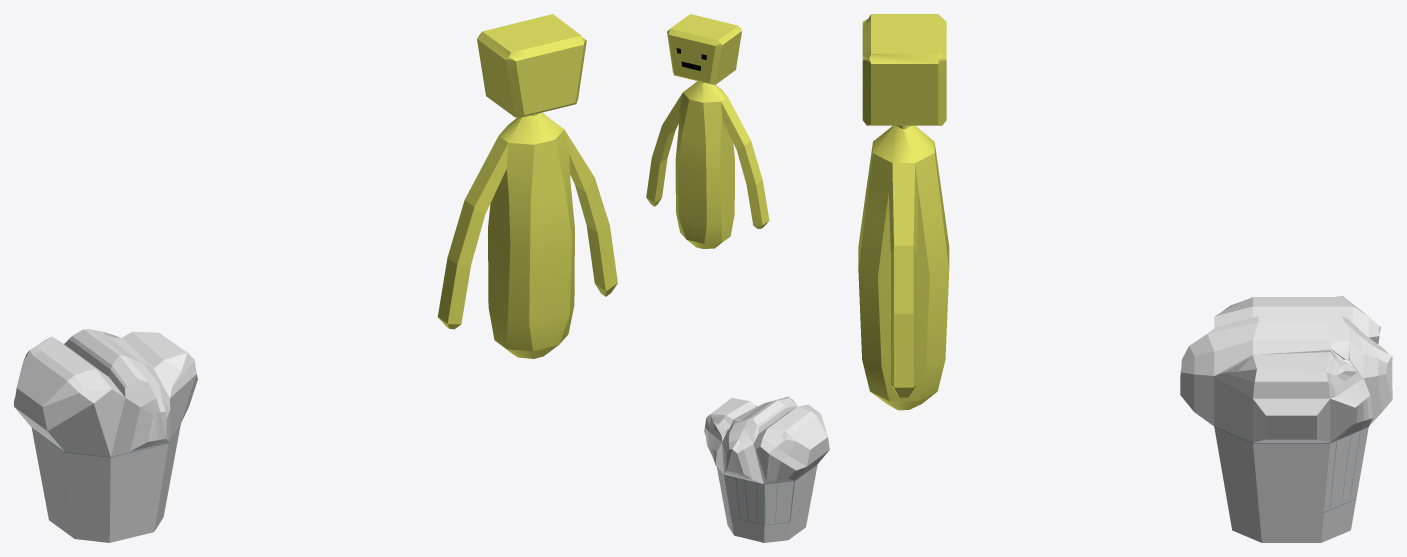
The model's file is Character en koksmutsie.fbx.
3 views of the same model, side by side, from view 1: azimuth 30°, elevation 25°; view 2: azimuth 150°, elevation 25°; view 3: azimuth 270°, elevation 25° (orthographic). The views are drawn at different scales.
Parts seen in each view (by area): view 1: pCube31, pCube25, pCube24; view 2: pCube31, pCube25, pCube24; view 3: pCube31, pCube25, pCube24.
Part boxes in pixels (bbox=[...]): pCube31: bbox=[14, 329, 197, 542]; pCube25: bbox=[437, 112, 617, 358]; pCube24: bbox=[477, 14, 586, 117]; pCube31: bbox=[704, 396, 829, 542]; pCube25: bbox=[646, 81, 769, 248]; pCube24: bbox=[667, 14, 741, 84]; pCube31: bbox=[1180, 296, 1392, 542]; pCube25: bbox=[858, 125, 949, 410]; pCube24: bbox=[862, 14, 946, 125].
Size of the model in its own units: 33.83 by 42.28 by 32.51.
